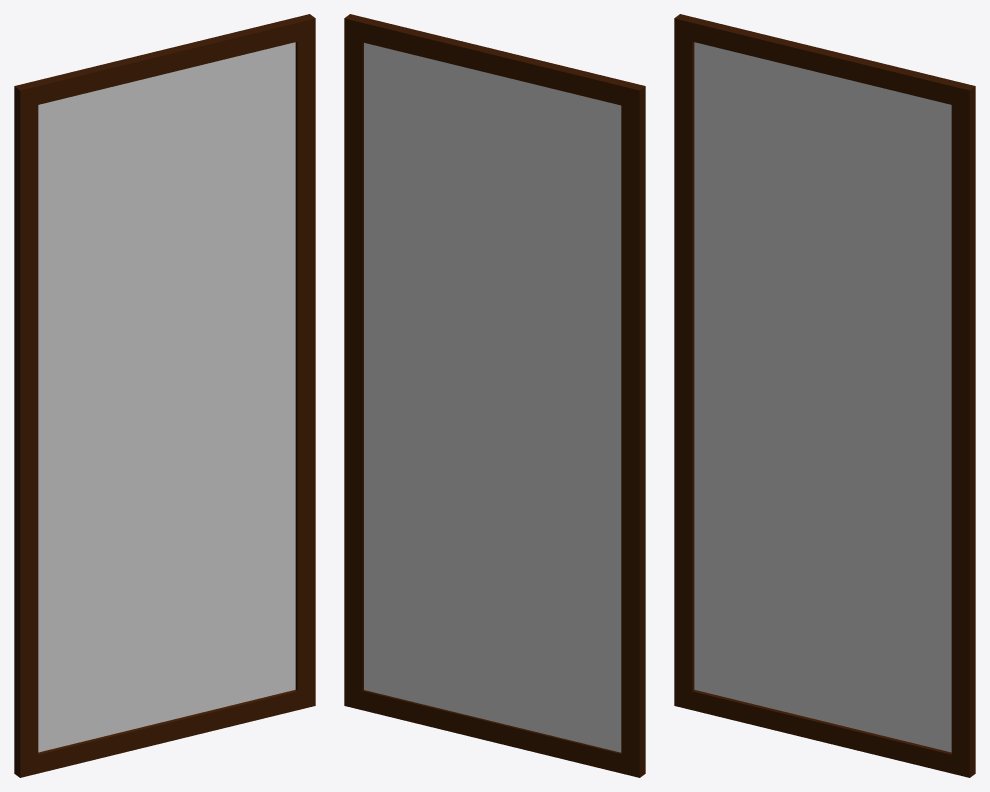
The model's file is door.glb.
The picture shows the model from 3 angles, left to right: view 1: azimuth 30°, elevation 25°; view 2: azimuth 150°, elevation 25°; view 3: azimuth 330°, elevation 25°; orthographic projection.
Parts seen in each view (by area): view 1: door; view 2: door; view 3: door.
Part boxes in pixels (bbox=[...]): door: bbox=[14, 14, 315, 777]; door: bbox=[344, 14, 645, 777]; door: bbox=[674, 14, 975, 777].
Bounding box in the file's own units: 0.9038 × 2.01 × 0.0318.
